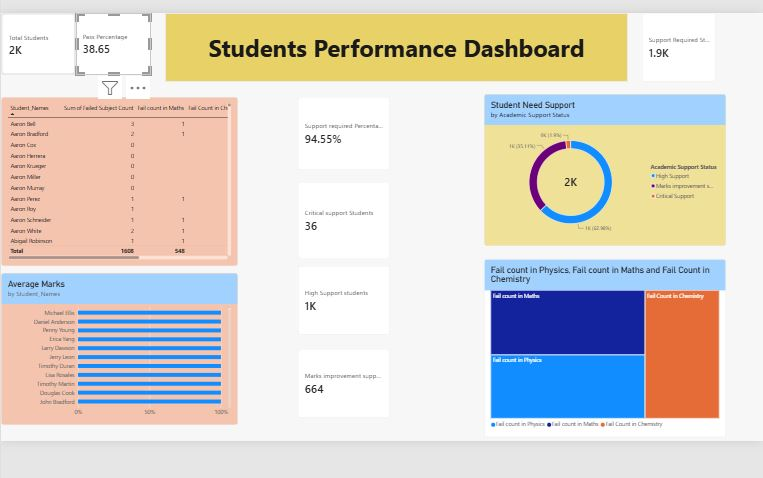

The dashboard page shown, as its layout file describes it:
{"tool":"powerbi","page":{"name":"DashBoard","canvas":[1920,1080],"ordinal":4},"visuals":[{"type":"cardVisual","fields":{"Data":["Fact_StudentMarks.Total Students"]},"box":[0,0,189,156.2],"z":1000},{"type":"cardVisual","fields":{"Data":["Fact_StudentMarks.Support required Percentage"]},"box":[748.3,211.7,231.8,183.9],"z":2000},{"type":"cardVisual","fields":{"Data":["Fact_StudentMarks.Pass Percentage"]},"box":[189,0,189,156.2],"z":3000},{"type":"donutChart","fields":{"Category":["Fact_StudentMarks.Academic Support Status"],"Y":["Fact_StudentMarks.Student Need Support"]},"box":[1217,204.1,609.8,383],"z":4000},{"type":"hundredPercentStackedBarChart","fields":{"Category":["Dim_Student.Student_Names"],"Y":["Fact_StudentMarks.Average Marks"]},"box":[0,655.1,597.2,383],"z":5000},{"type":"cardVisual","fields":{"Data":["Fact_StudentMarks.Critical support Students"]},"box":[748.3,425.8,231.8,194],"z":7000},{"type":"treemap","fields":{"Values":["Fact_StudentMarks.Fail count in Physics","Fact_StudentMarks.Fail count in Maths","Fact_StudentMarks.Fail Count in Chemistry"]},"box":[1217,619.8,609.8,448.5],"z":8000},{"type":"shape","box":[413.2,0,1166.6,173.9],"z":8001},{"type":"cardVisual","fields":{"Data":["Fact_StudentMarks.High Support students"]},"box":[748.3,637.5,231.8,173.9],"z":8002},{"type":"cardVisual","fields":{"Data":["Fact_StudentMarks.Marks improvement support students count"]},"box":[748.3,846.6,231.8,173.9],"z":8003},{"type":"cardVisual","fields":{"Data":["Fact_StudentMarks.Support Required Students"]},"box":[1615.1,0,186.5,173.9],"z":8004},{"type":"tableEx","fields":{"Values":["Dim_Student.Student_Names","Sum(Fact_StudentMarks.Failed Subject Count)","Fact_StudentMarks.Fail count in Maths","Fact_StudentMarks.Fail Count in Chemistry","Fact_StudentMarks.Fail count in Physics","Fact_StudentMarks.Academic Support Status"]},"box":[0,211.7,597.2,425.8],"z":8005}]}

Visuals, with their boxes on the page's 1920x1080 design canvas (x1, y1, x2, y2). These are canvas units, not pixel positions in the 763x478 screenshot, which may show the page scaled, cropped or inside an application window:
cardVisual - Fact_StudentMarks.Total Students: 0/0/189/156
cardVisual - Fact_StudentMarks.Support required Percentage: 748/212/980/396
cardVisual - Fact_StudentMarks.Pass Percentage: 189/0/378/156
donutChart - Fact_StudentMarks.Academic Support Status x Fact_StudentMarks.Student Need Support: 1217/204/1827/587
hundredPercentStackedBarChart - Dim_Student.Student_Names x Fact_StudentMarks.Average Marks: 0/655/597/1038
cardVisual - Fact_StudentMarks.Critical support Students: 748/426/980/620
treemap - Fact_StudentMarks.Fail count in Physics x Fact_StudentMarks.Fail count in Maths: 1217/620/1827/1068
shape: 413/0/1580/174
cardVisual - Fact_StudentMarks.High Support students: 748/638/980/811
cardVisual - Fact_StudentMarks.Marks improvement support students count: 748/847/980/1020
cardVisual - Fact_StudentMarks.Support Required Students: 1615/0/1802/174
tableEx - Dim_Student.Student_Names x Sum(Fact_StudentMarks.Failed Subject Count): 0/212/597/638
